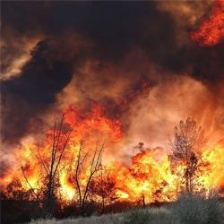fire: (8, 111, 224, 205)
smoke: (3, 1, 217, 103)
